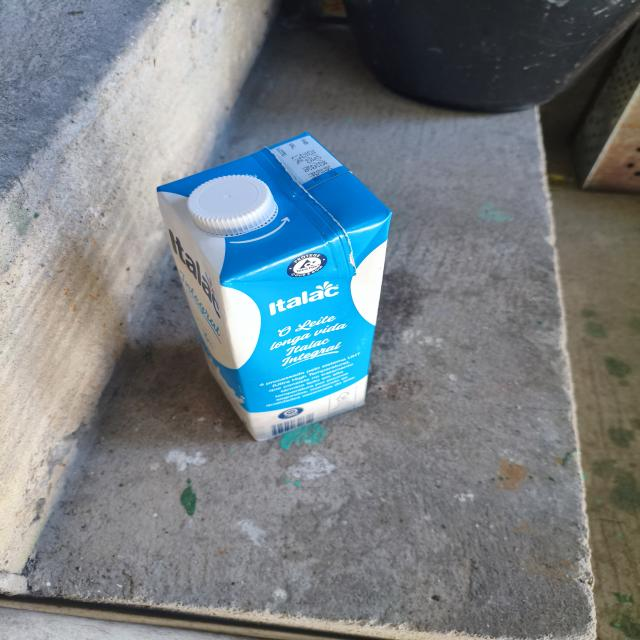Caixa de Leite: (136, 125, 413, 459)
